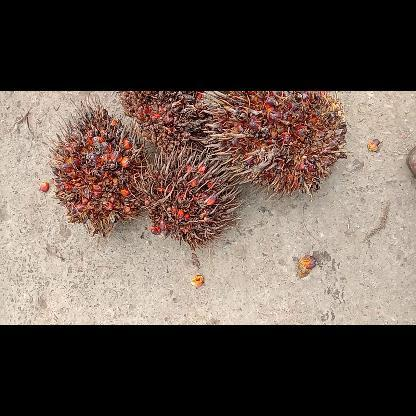Terlalu masak: (196, 91, 350, 201), (48, 96, 150, 240), (128, 140, 246, 250), (116, 91, 232, 165)
